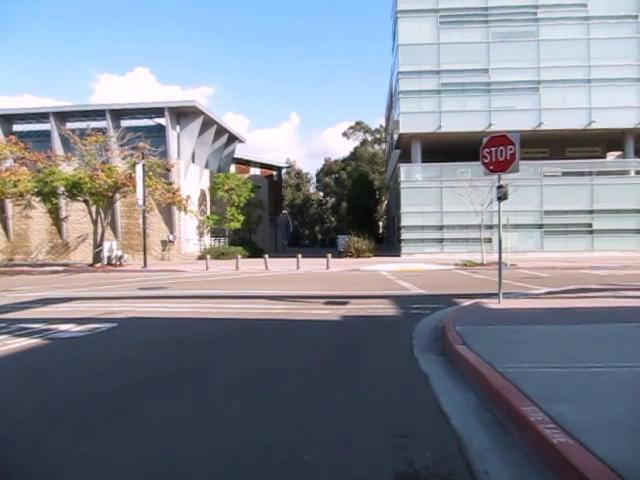stop: (479, 132, 518, 174)
